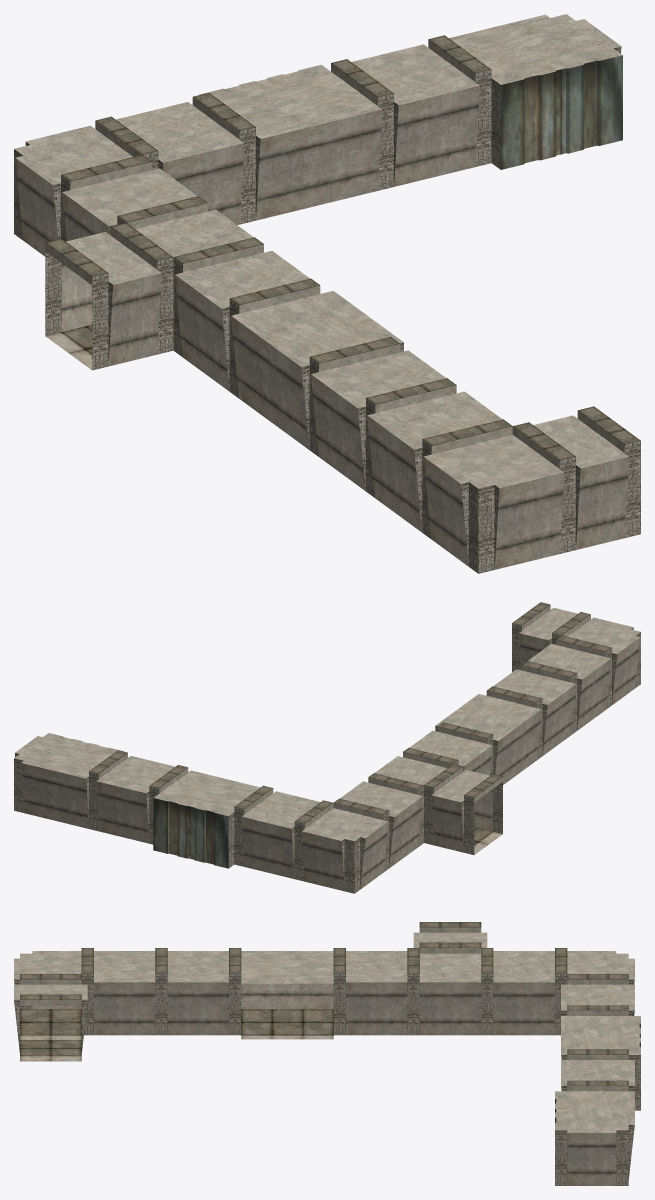
The model's file is thm_yavn_great_massassi_temple_r5_hall2_mesh_r5.fbx.
The picture shows the model from 3 angles, top to bottom: view 1: azimuth 30°, elevation 25°; view 2: azimuth 150°, elevation 25°; view 3: azimuth 270°, elevation 25°; orthographic projection. The views are drawn at different scales.
Visible parts, largest first — view 1: mesh_node; view 2: mesh_node; view 3: mesh_node.
Part boxes in pixels (box(x1,y1,x2,y2)): mesh_node: box(14, 14, 640, 573); mesh_node: box(14, 602, 640, 893); mesh_node: box(14, 922, 640, 1185).
Bounding box in the file's own units: 39.5 × 5.5 × 51.
